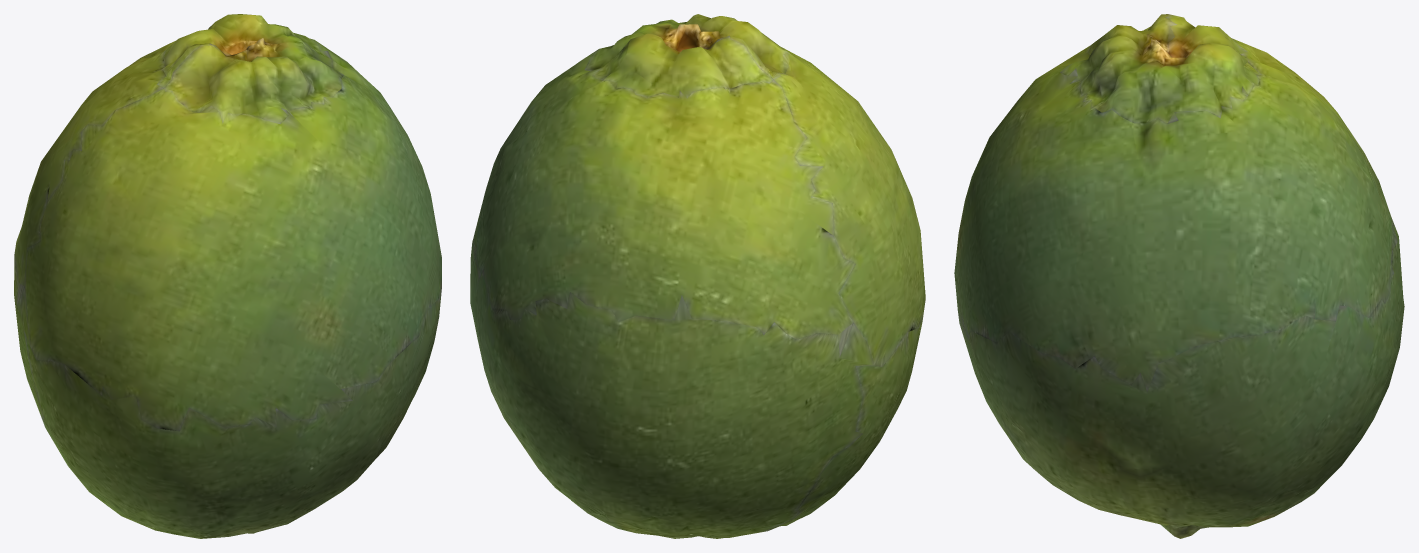
File: food_lime_01.glb
The picture shows the model from 3 angles, left to right: view 1: azimuth 30°, elevation 25°; view 2: azimuth 150°, elevation 25°; view 3: azimuth 270°, elevation 25°; orthographic projection.
Visible parts, largest first — view 1: food_lime_01; view 2: food_lime_01; view 3: food_lime_01.
Part boxes in pixels (x1,y1,x2,y2): food_lime_01: (14, 14, 441, 538); food_lime_01: (470, 14, 925, 538); food_lime_01: (954, 14, 1404, 538).
Bounding box in the file's own units: 0.06 × 0.0754 × 0.0613.
1 material, 1 textured.
